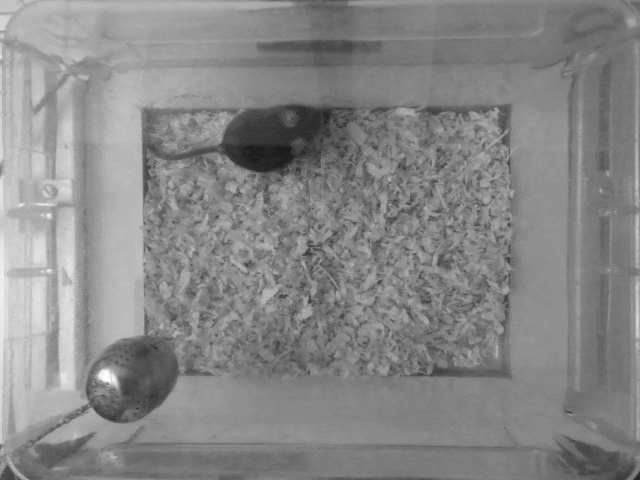mice: (146, 103, 335, 174)
